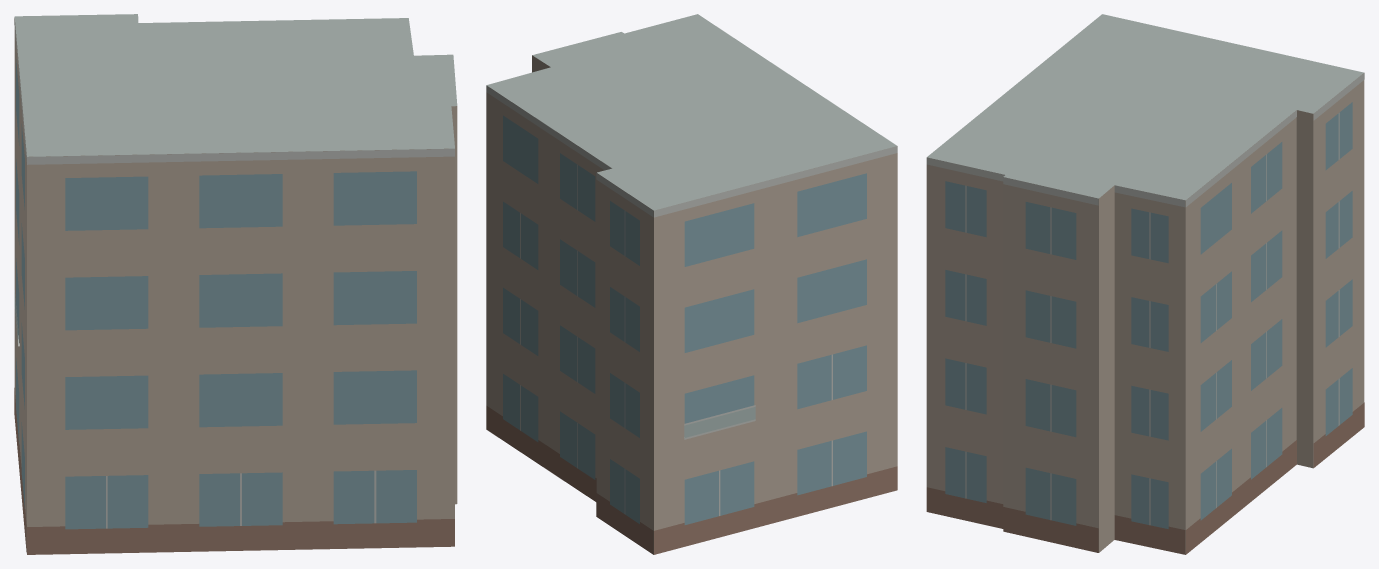
The model's file is survey-upis-32973322.glb.
3 views of the same model, side by side, from view 1: azimuth 30°, elevation 25°; view 2: azimuth 150°, elevation 25°; view 3: azimuth 270°, elevation 25° (orthographic). The views are drawn at different scales.
Visible parts, largest first — view 1: survey-upis-32973322.tmp; view 2: survey-upis-32973322.tmp; view 3: survey-upis-32973322.tmp.
Part boxes in pixels (bbox=[...]): survey-upis-32973322.tmp: bbox=[14, 14, 457, 554]; survey-upis-32973322.tmp: bbox=[486, 14, 897, 554]; survey-upis-32973322.tmp: bbox=[926, 14, 1364, 554].
Bounding box in the file's own units: 13.65 × 12.1 × 13.55.
